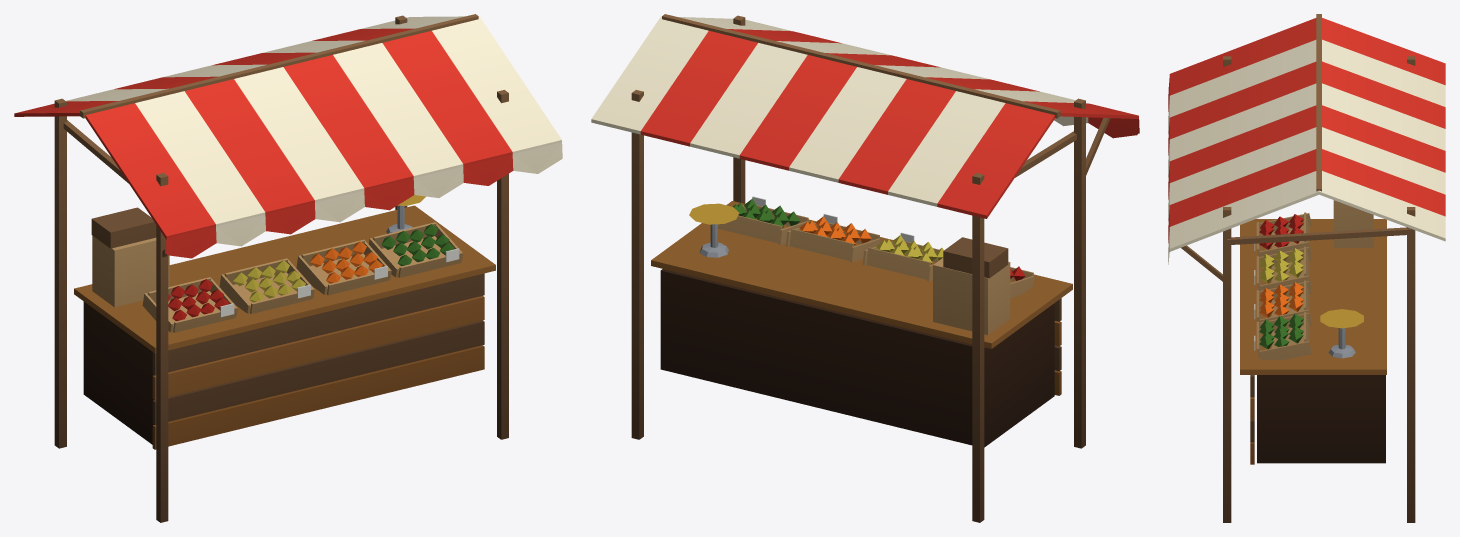
File: Market_Stall_A.fbx
3 views of the same model, side by side, from view 1: azimuth 30°, elevation 25°; view 2: azimuth 150°, elevation 25°; view 3: azimuth 270°, elevation 25° (orthographic). The views are drawn at different scales.
Visible parts, largest first — view 1: Market_Stall_A_LOD0; view 2: Market_Stall_A_LOD0; view 3: Market_Stall_A_LOD0.
Boxes of the visible parts, x1,y1,x2,y2 form: Market_Stall_A_LOD0: [14, 14, 562, 522]; Market_Stall_A_LOD0: [591, 14, 1139, 522]; Market_Stall_A_LOD0: [1168, 14, 1445, 522].
Size of what is drawn, in the model's own units: 3.62 by 3.3 by 2.41.
1 material, 1 textured.
